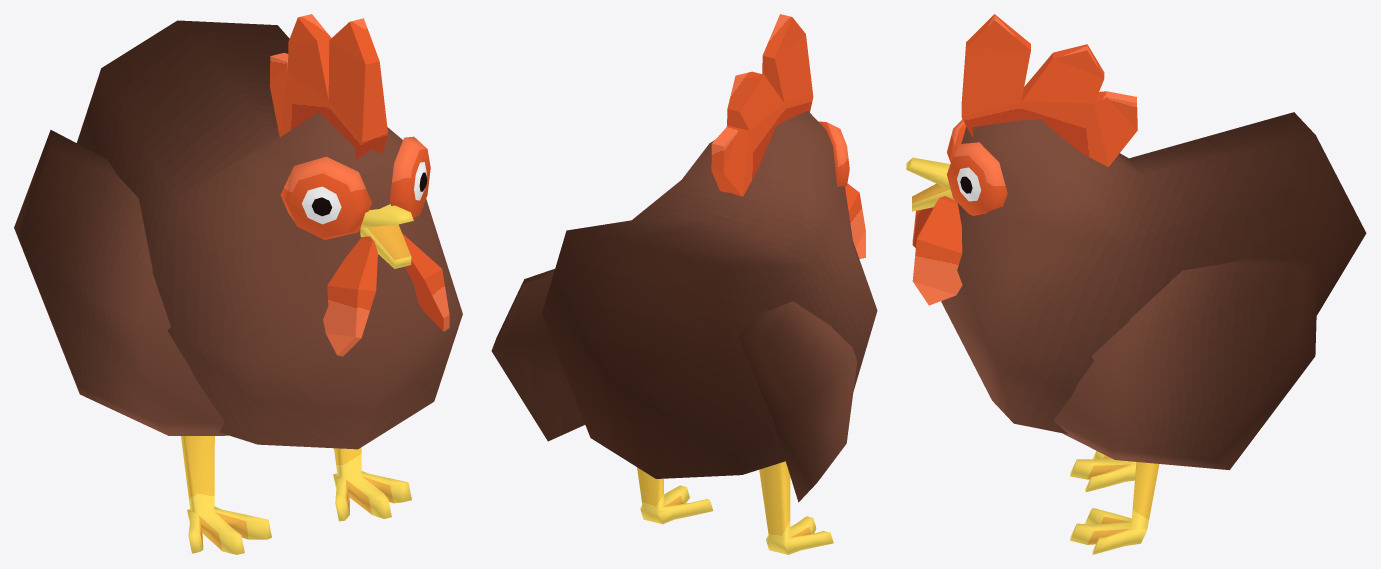
Rendered from 2chicken.glb.
3 renders of one model, left to right at view 1: azimuth 30°, elevation 25°; view 2: azimuth 150°, elevation 25°; view 3: azimuth 270°, elevation 25°, orthographic. The views are drawn at different scales.
Parts seen in each view (by area): view 1: ChickenBr_0; view 2: ChickenBr_0; view 3: ChickenBr_0.
Boxes of the visible parts, <box> form: ChickenBr_0: <box>14,14,462,554</box>; ChickenBr_0: <box>491,14,877,554</box>; ChickenBr_0: <box>906,14,1366,554</box>.
Size of the model in its own units: 0.3953 by 0.5991 by 0.5079.
1 material, 1 textured.
